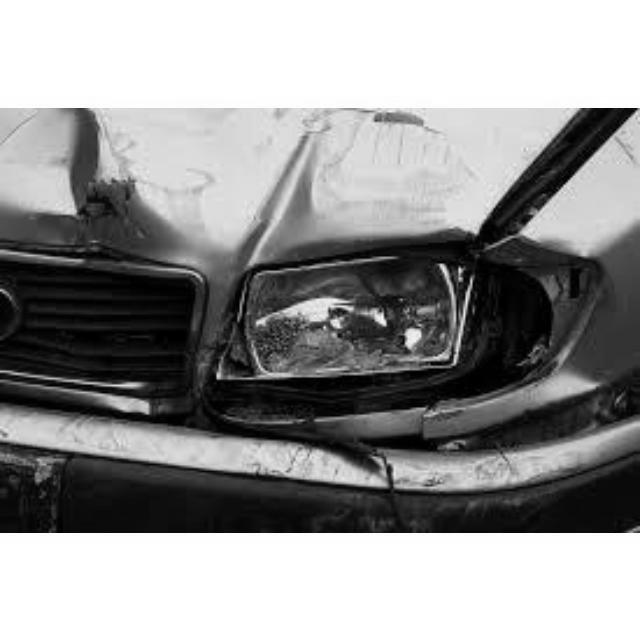Headlight-damage: (210, 254, 573, 400)
bonnet-dent: (1, 108, 478, 247)
front-bumper-dent: (0, 396, 628, 530)
